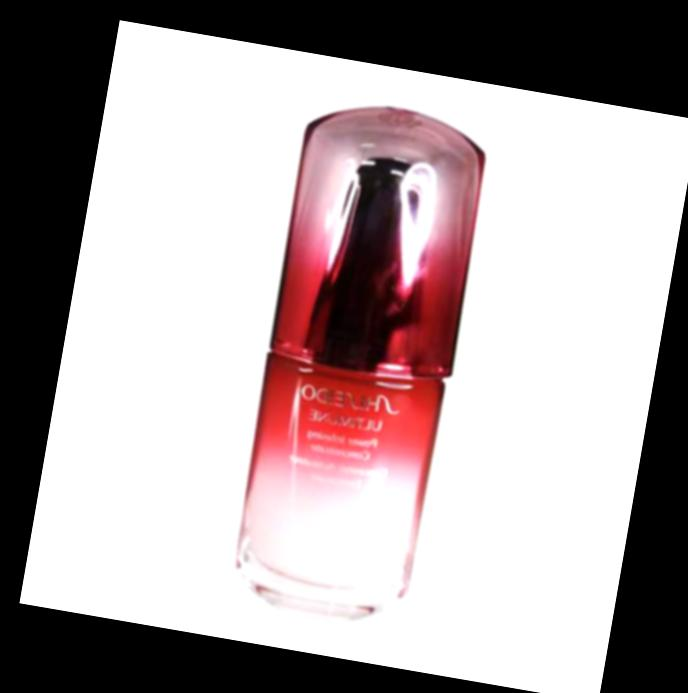cosmetic: (220, 88, 497, 630)
